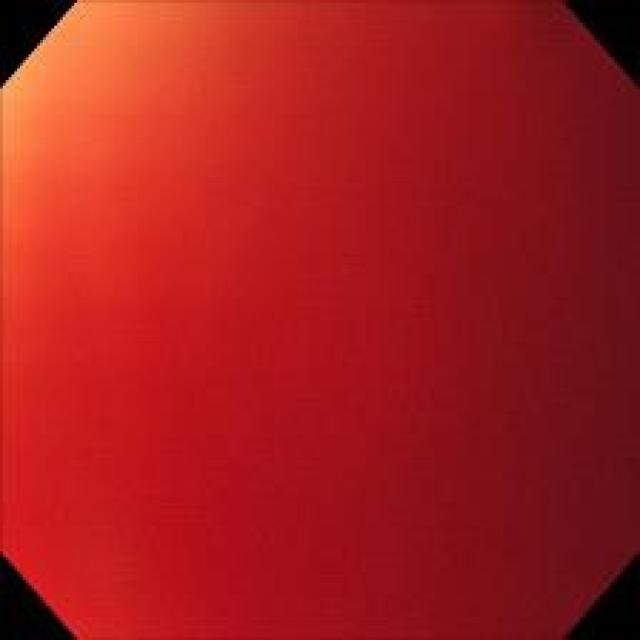color misalignment: (10, 12, 626, 616)
